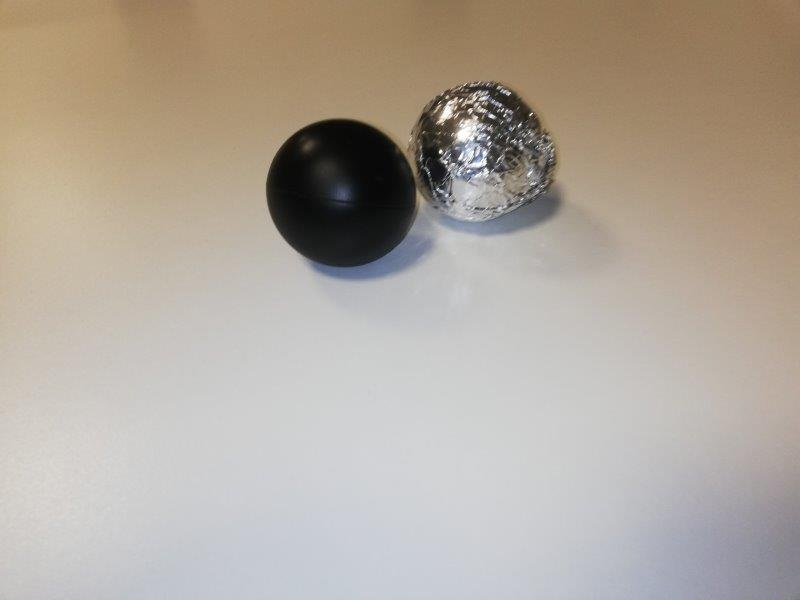bianca: (409, 80, 554, 225)
nera: (261, 118, 419, 268)
